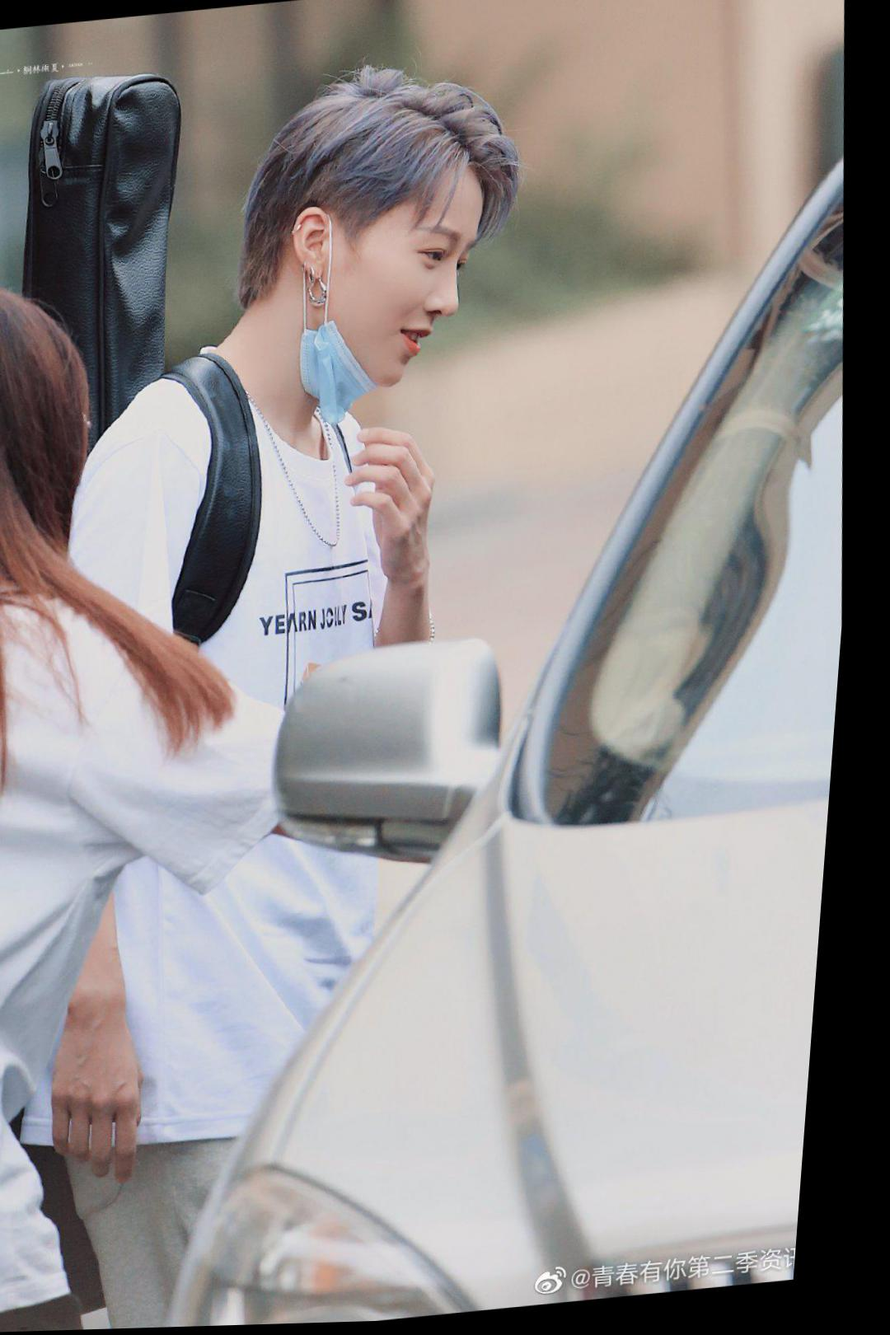WRONG: (330, 194, 501, 399)
